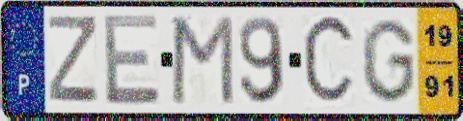9: (236, 15, 287, 107)
C: (300, 10, 358, 111)
E: (100, 12, 163, 109)
G: (359, 16, 418, 106)
M: (168, 13, 236, 108)
Z: (46, 13, 100, 107)
